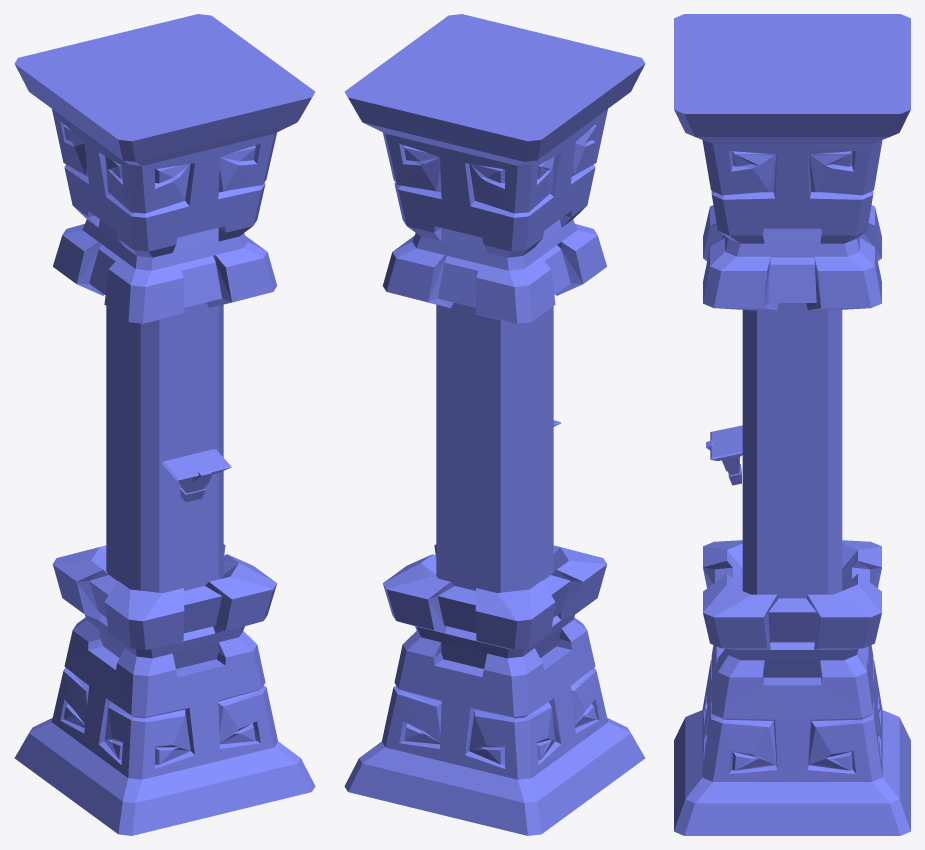
File: pillar_torch_01_SM.fbx
The picture shows the model from 3 angles, left to right: view 1: azimuth 30°, elevation 25°; view 2: azimuth 150°, elevation 25°; view 3: azimuth 270°, elevation 25°; orthographic projection. The views are drawn at different scales.
Parts seen in each view (by area): view 1: pillar_toarch_01_SM; view 2: pillar_toarch_01_SM; view 3: pillar_toarch_01_SM.
Part boxes in pixels (x1,y1,x2,y2): pillar_toarch_01_SM: (14,14,315,835); pillar_toarch_01_SM: (344,14,645,835); pillar_toarch_01_SM: (674,14,910,835).
Size of the model in its own units: 119 by 400 by 119.
